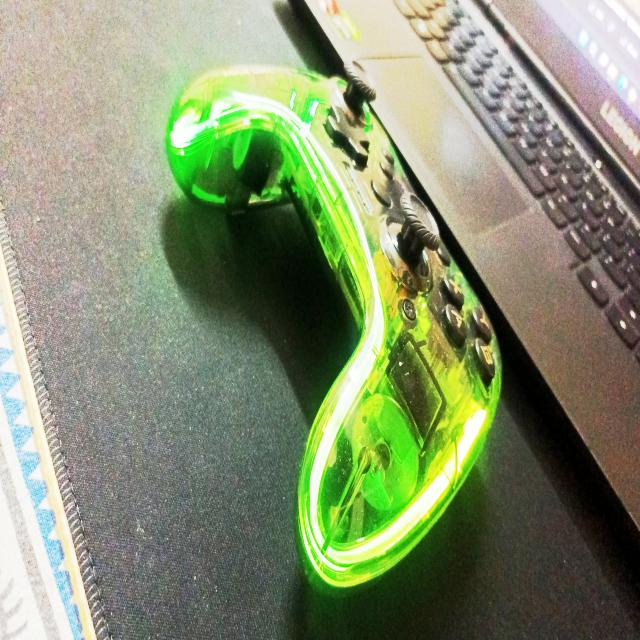gamepad: (164, 61, 503, 594)
